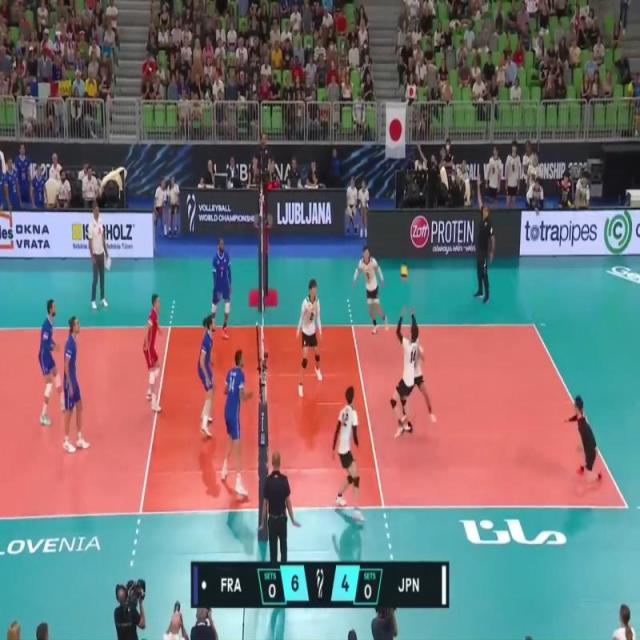volleyball: (399, 264, 409, 278)
